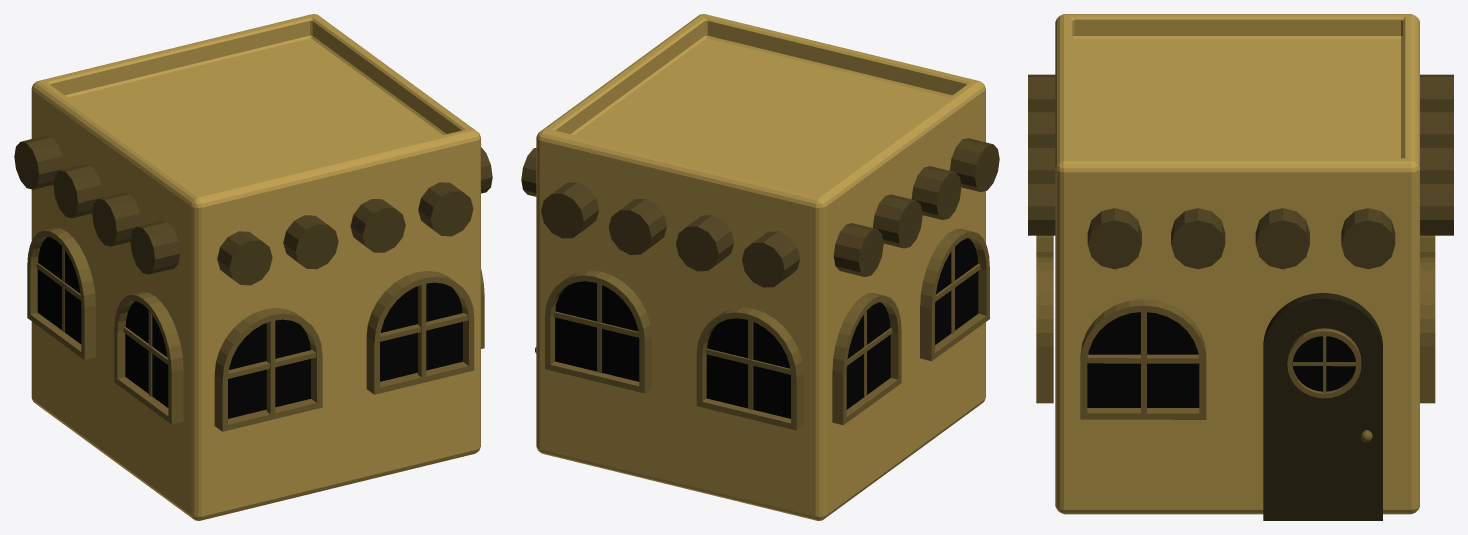
The model's file is MısırEvi.fbx.
3 views of the same model, side by side, from view 1: azimuth 30°, elevation 25°; view 2: azimuth 150°, elevation 25°; view 3: azimuth 270°, elevation 25° (orthographic). The views are drawn at different scales.
Parts seen in each view (by area): view 1: Cube.029; view 2: Cube.029; view 3: Cube.029.
Part boxes in pixels (x1,y1,x2,y2): Cube.029: (14, 14, 492, 520); Cube.029: (521, 14, 999, 520); Cube.029: (1028, 14, 1453, 520).
Bounding box in the file's own units: 75 × 68.62 × 75.
